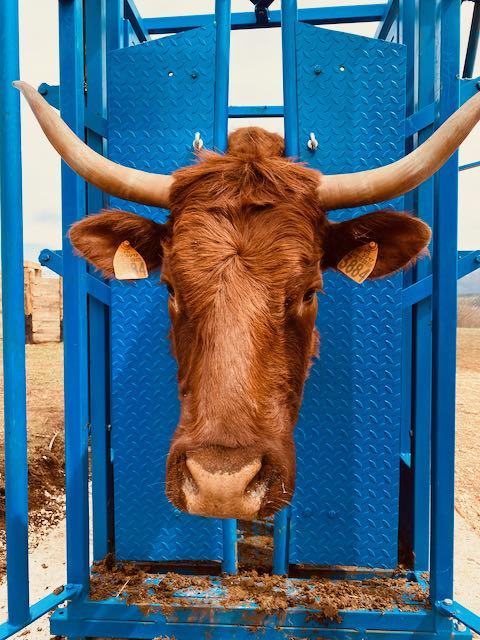muzzles: (159, 447, 299, 524)
